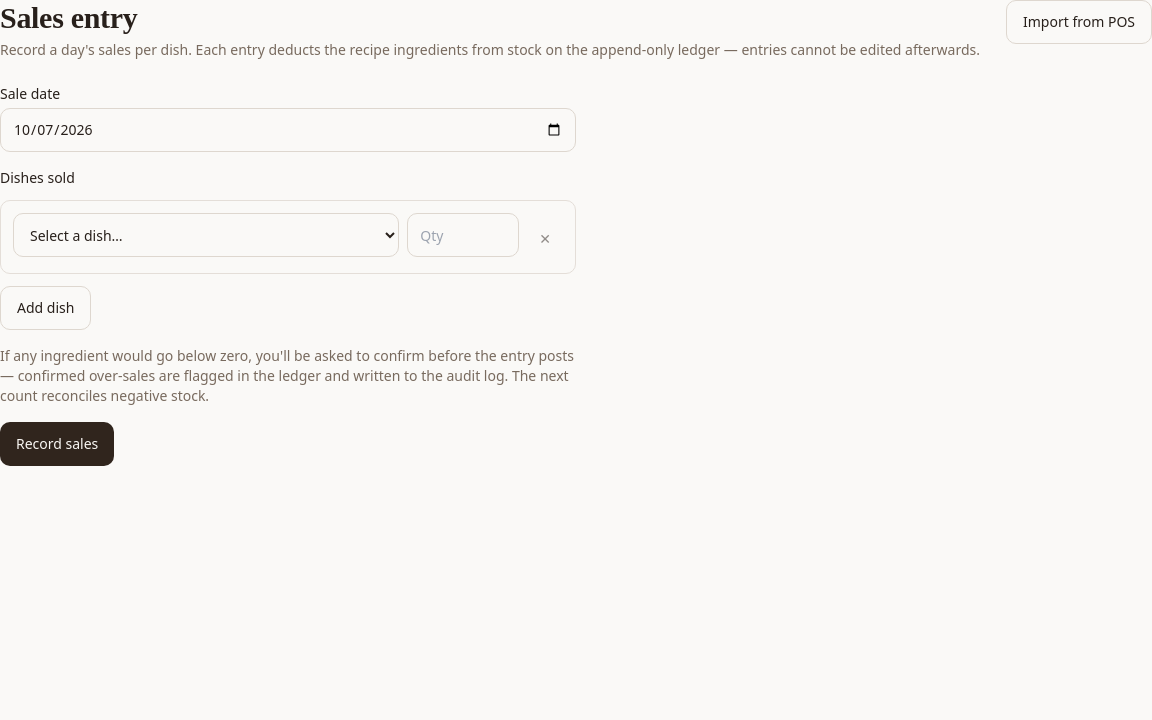
Test: over-sale confirmation › aborts the entry when the dialog is cancelled
Select "Butter Chicken" in the dropdown named "dish 1". click: (206,235)
box: [13, 213, 399, 257]
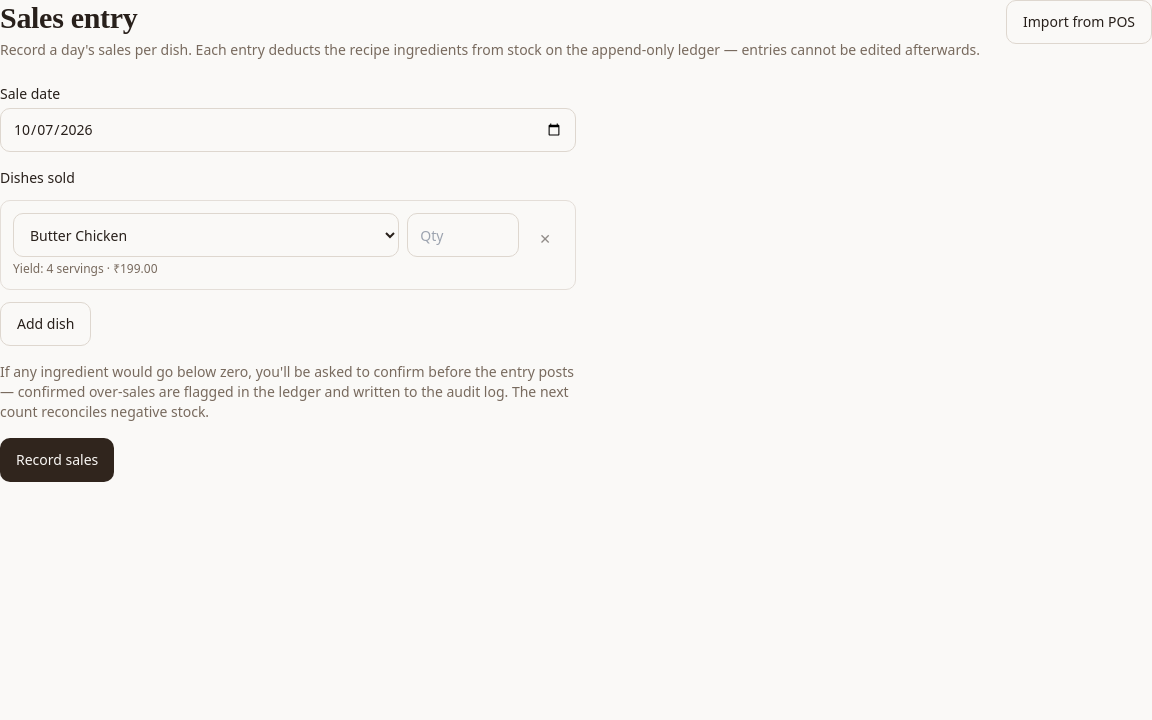
Type "8" into the number field named "dishes sold (butter chicken)". click: (463,235)
box: [407, 213, 519, 257]
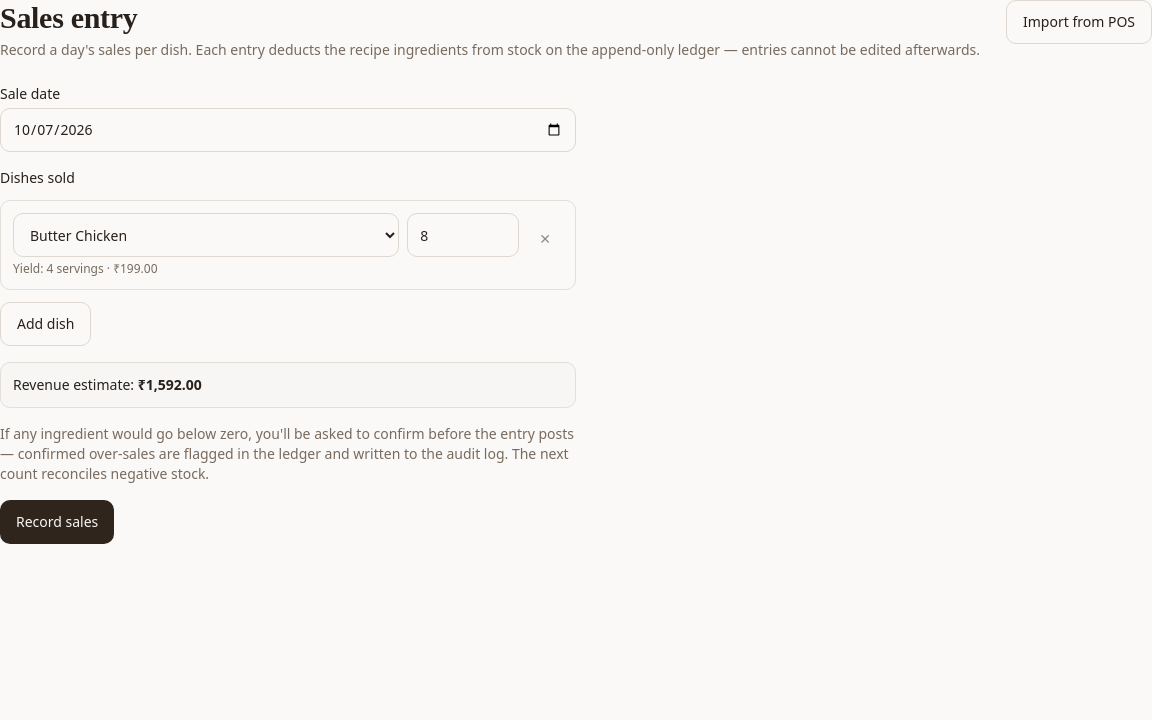
Click the button "Record sales". click: (57,522)
box: [0, 500, 114, 544]
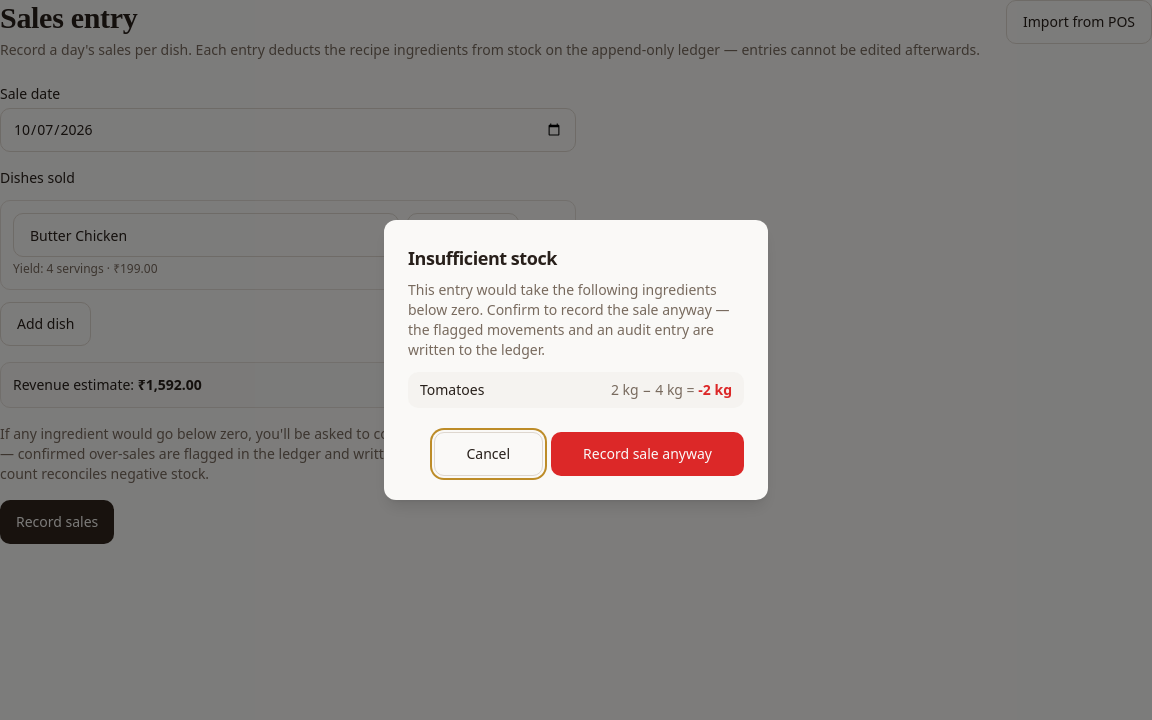
Click the button "Cancel". click: (488,454)
box: [434, 432, 543, 476]
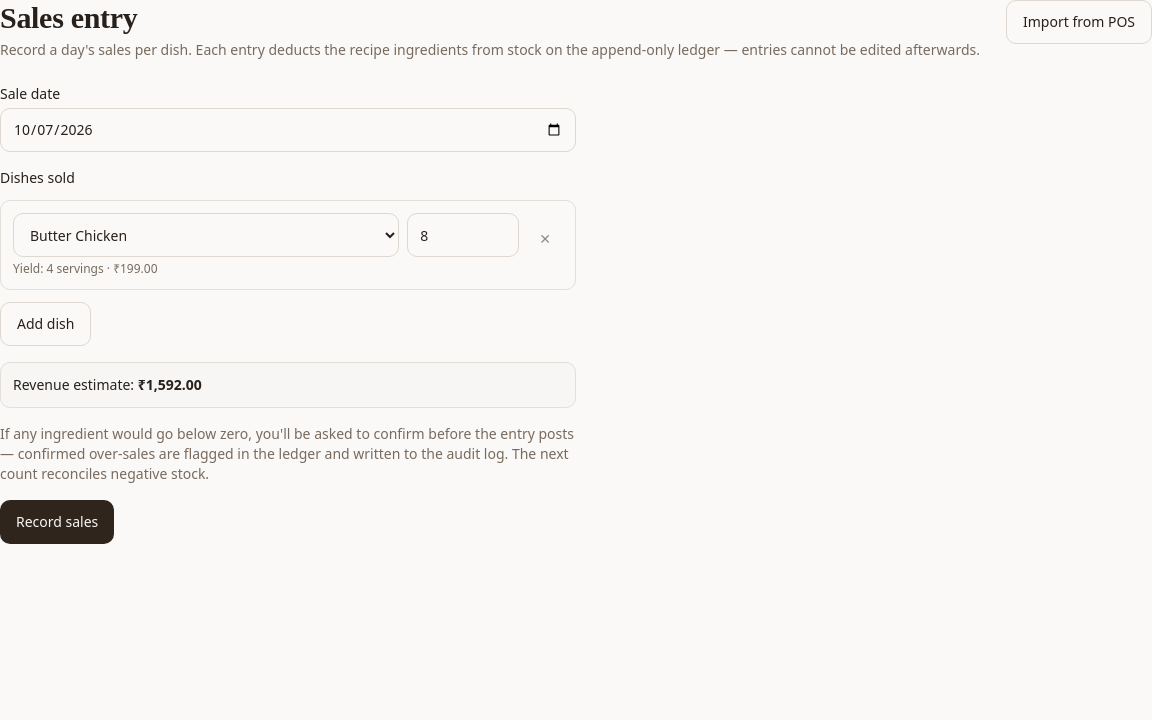
Expected: the dialog is gone
